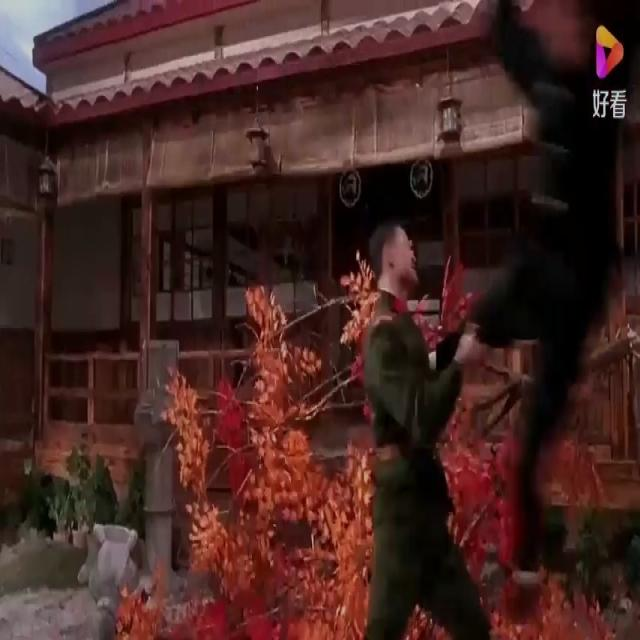fight: (339, 0, 640, 639)
